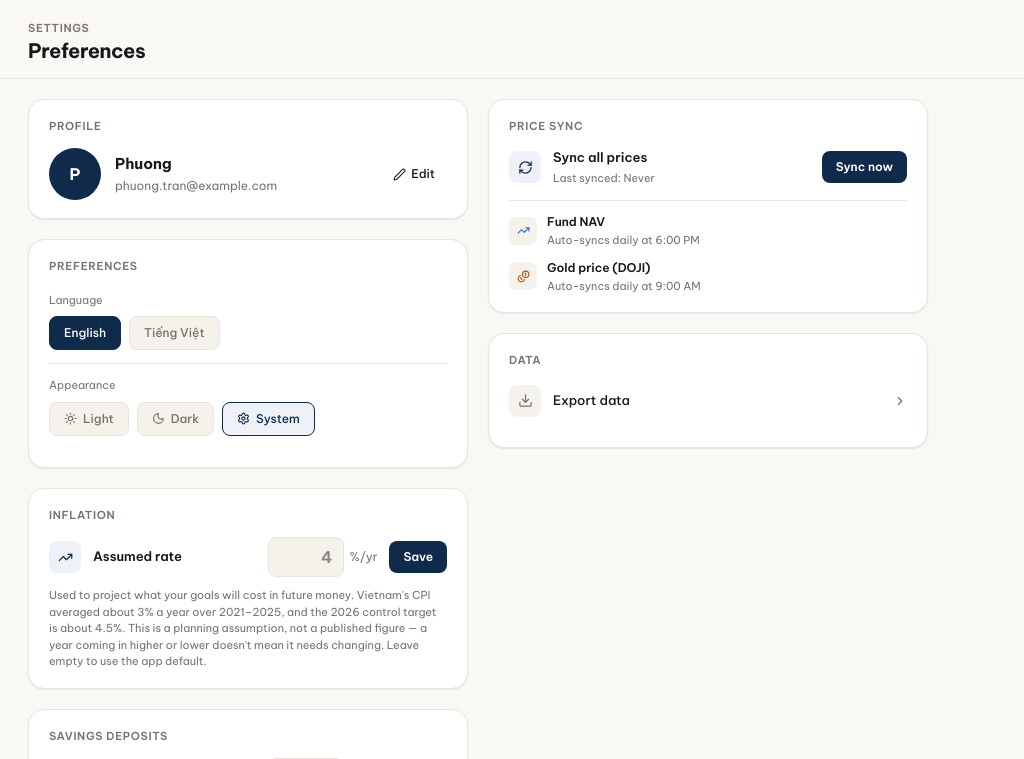
Scenario: DesktopSettingsView — profile modal › opens a dialog with name and email prefilled when Edit is clicked
Click the button "Edit" at (414, 174), box [381, 159, 447, 189]
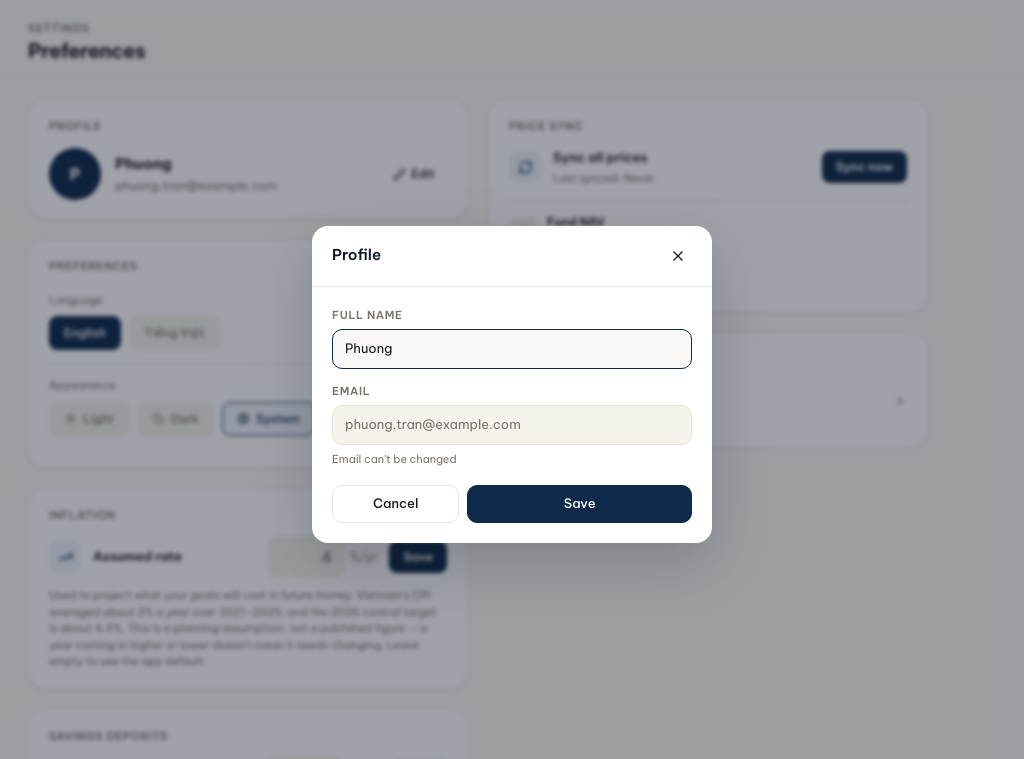
Check: the dialog is shown, box [312, 226, 712, 542]
Check: the field showing "Phuong" is shown, box [332, 329, 692, 368]
Check: the field showing "phuong.tran@example.com" is shown, box [332, 405, 692, 444]
